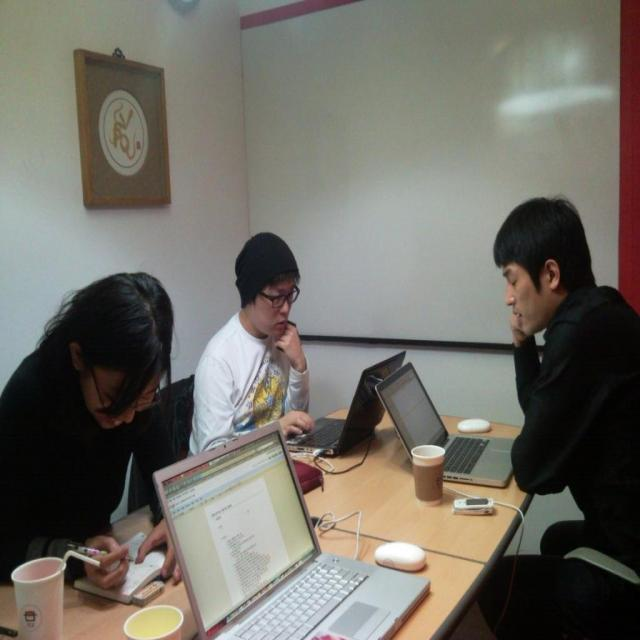chair: (160, 375, 194, 460)
desk: (76, 338, 596, 640)
laptop: (151, 422, 432, 639), (375, 360, 519, 488), (286, 353, 402, 458)
mouse: (375, 540, 427, 572)
person: (486, 194, 640, 629), (0, 271, 181, 587), (190, 232, 313, 455)
